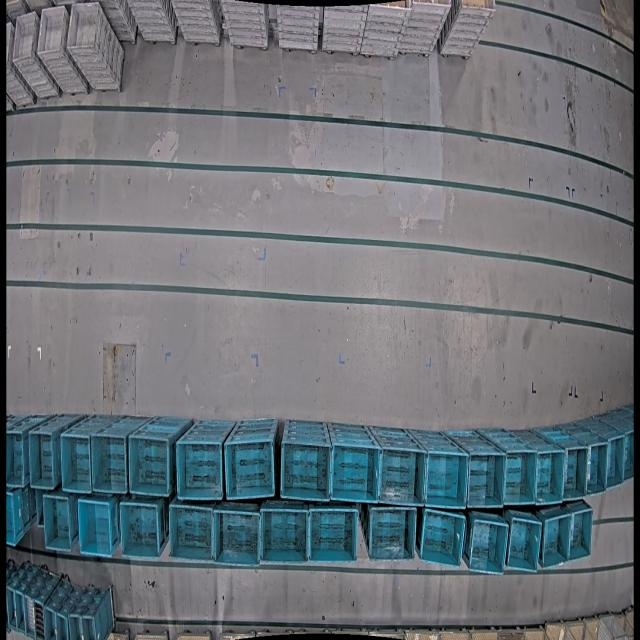Box: (279, 438, 331, 501), (225, 436, 275, 500), (176, 436, 224, 501), (260, 505, 309, 566), (309, 505, 358, 566), (168, 501, 215, 563), (368, 504, 417, 563), (330, 442, 377, 503), (216, 507, 262, 567), (128, 434, 171, 498), (424, 449, 469, 509), (420, 508, 464, 569), (119, 499, 162, 561), (378, 445, 419, 506), (470, 516, 509, 575), (78, 497, 113, 557), (506, 515, 542, 572), (61, 430, 93, 491), (467, 451, 500, 508), (42, 493, 73, 552), (92, 432, 122, 492), (541, 513, 571, 568), (534, 447, 562, 504), (30, 429, 57, 488), (503, 448, 530, 505), (569, 506, 593, 564), (563, 445, 587, 500), (586, 439, 608, 493), (6, 429, 26, 487), (7, 488, 27, 545), (607, 434, 624, 490), (6, 582, 17, 635), (623, 429, 634, 482), (24, 593, 35, 640), (461, 0, 498, 11), (83, 615, 99, 640), (45, 605, 56, 640), (35, 598, 44, 640), (69, 612, 82, 640), (56, 612, 68, 640), (17, 589, 24, 637)
